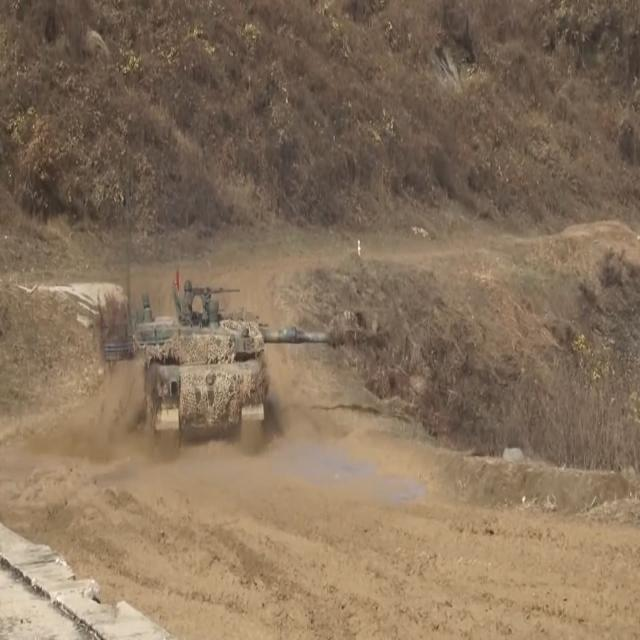korea tank: (99, 277, 393, 458)
